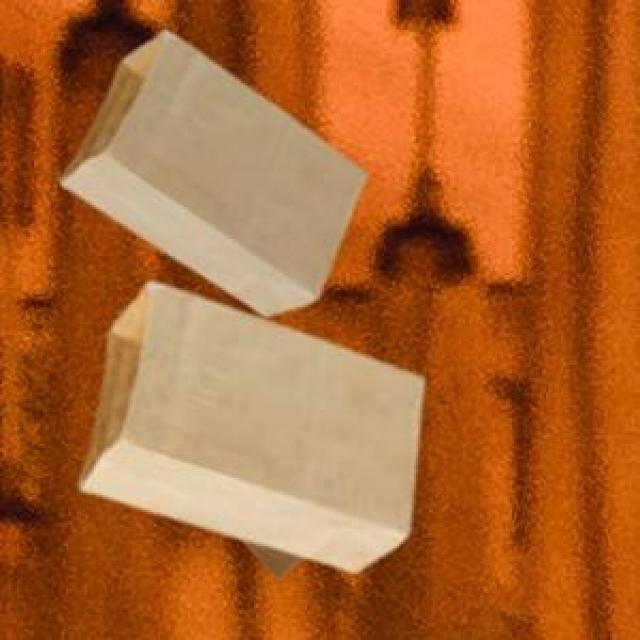Paper -Biodegradable-: (79, 281, 427, 570), (62, 30, 368, 318)
